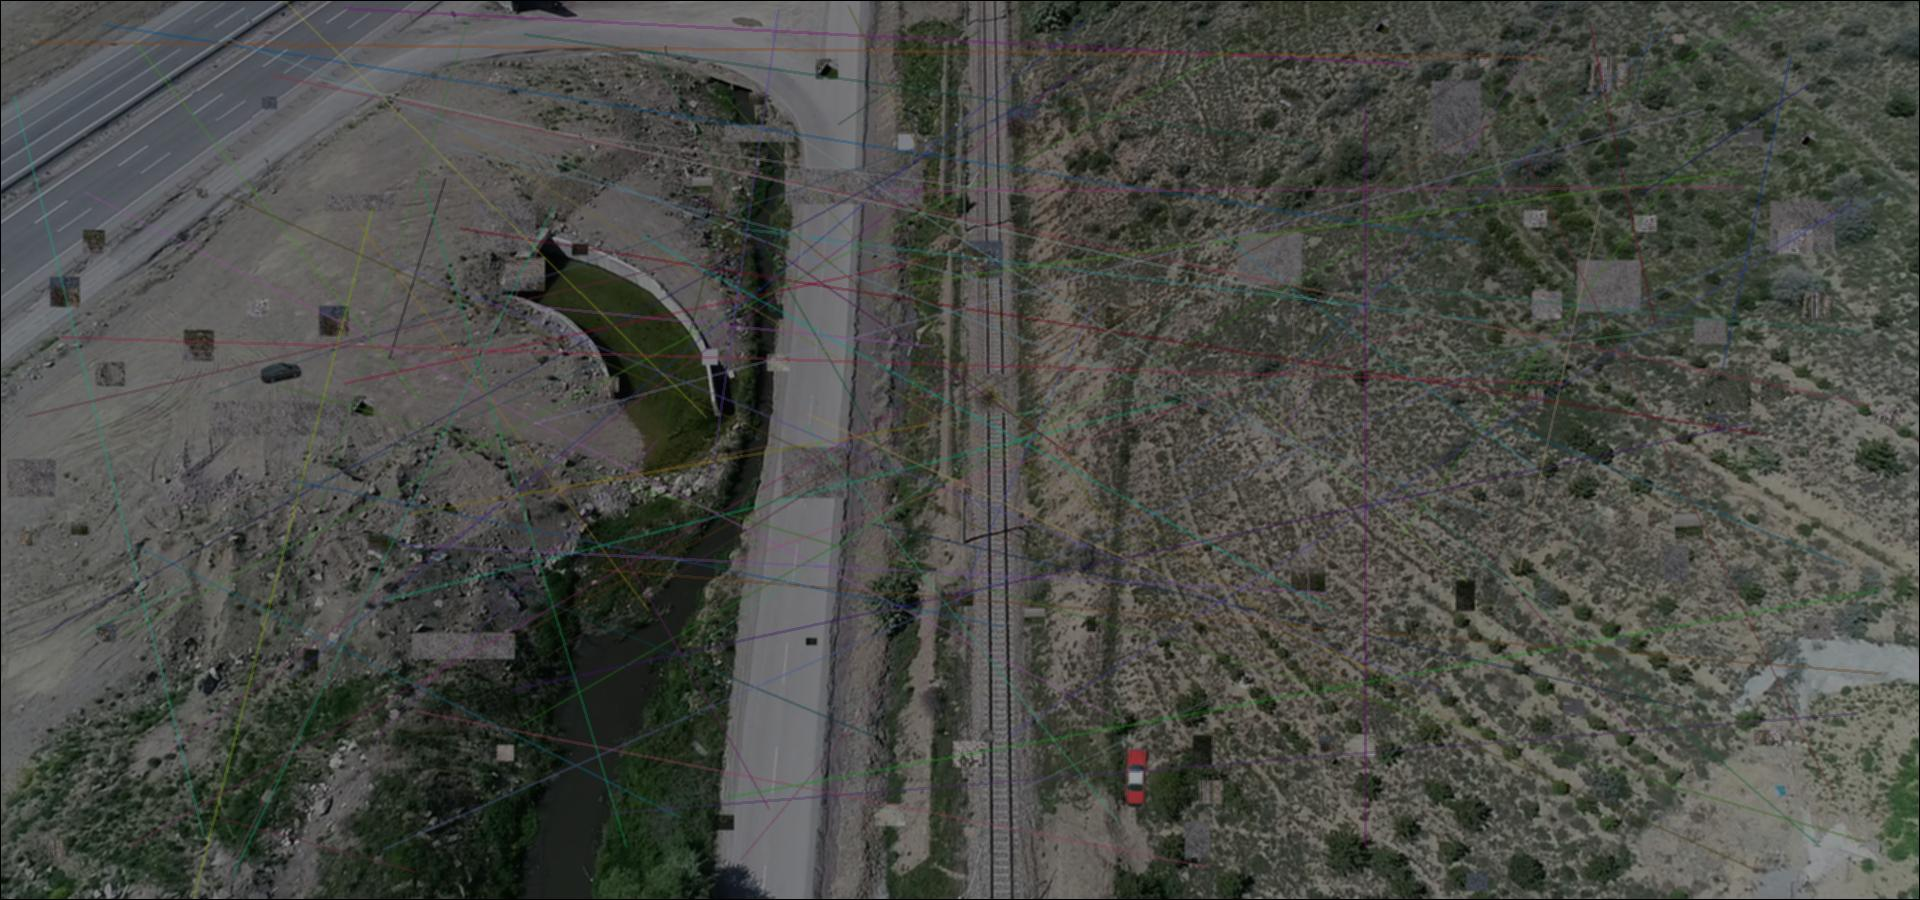arac: (1124, 749, 1149, 808), (260, 362, 302, 384)
